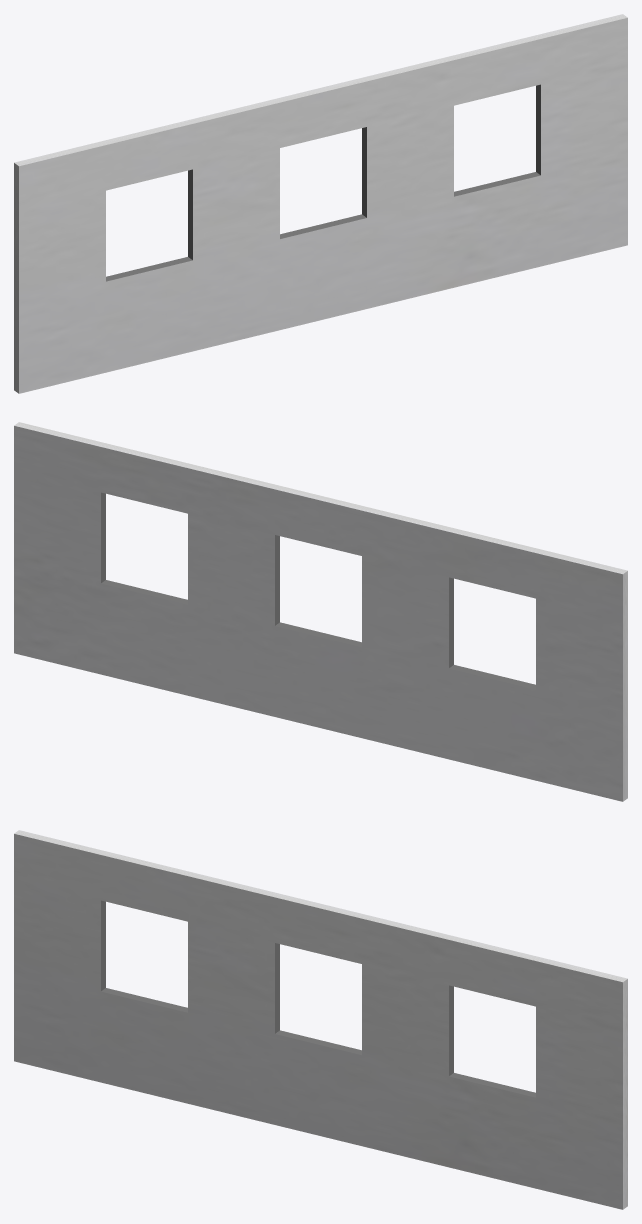
The model's file is paredT.obj.
The picture shows the model from 3 angles, top to bottom: view 1: azimuth 30°, elevation 25°; view 2: azimuth 150°, elevation 25°; view 3: azimuth 330°, elevation 25°; orthographic projection.
Parts seen in each view (by area): view 1: pCube9; view 2: pCube9; view 3: pCube9.
Boxes of the visible parts, x1,y1,x2,y2 form: pCube9: (14, 14, 627, 393); pCube9: (14, 422, 627, 801); pCube9: (14, 830, 627, 1209).
Bounding box in the file's own units: 14 × 5 × 0.2.
2 materials, 1 textured.
